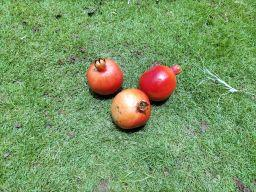pomegranate: (139, 63, 182, 103), (111, 88, 151, 129), (87, 58, 123, 95)
